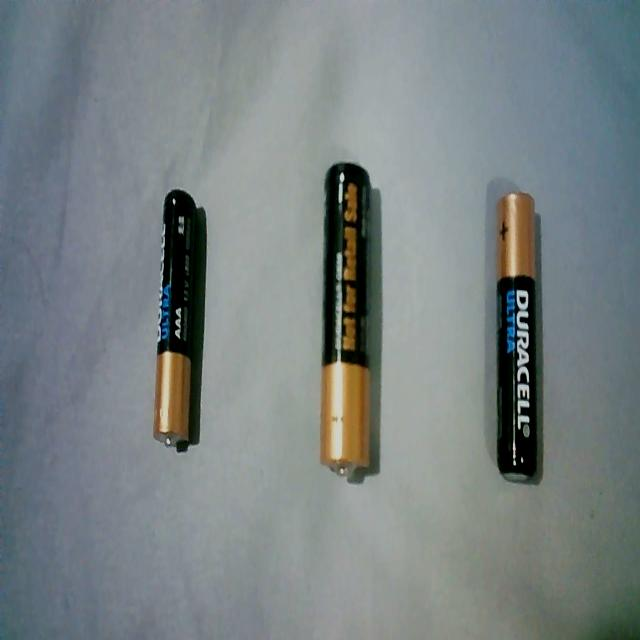AA: (314, 159, 384, 485)
AAA: (490, 188, 544, 484), (152, 182, 204, 454)
